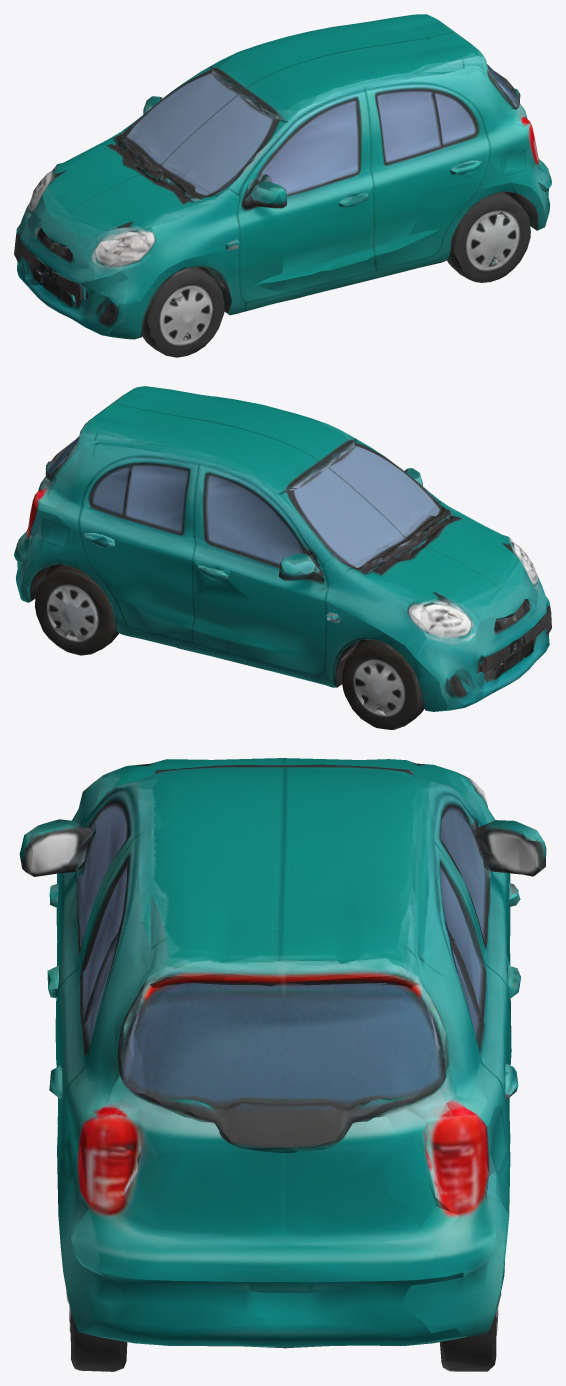
File: SmallCar.glb
3 renders of one model, top to bottom at view 1: azimuth 30°, elevation 25°; view 2: azimuth 150°, elevation 25°; view 3: azimuth 270°, elevation 25°, orthographic. The views are drawn at different scales.
Visible parts, largest first — view 1: geometry_0; view 2: geometry_0; view 3: geometry_0.
Boxes of the visible parts, bbox=[...] form: geometry_0: bbox=[14, 14, 551, 357]; geometry_0: bbox=[14, 386, 551, 729]; geometry_0: bbox=[19, 758, 546, 1371].
Size of the model in its own units: 3.6 by 1.59 by 1.75.
Materials: 1 (1 with a texture image).
